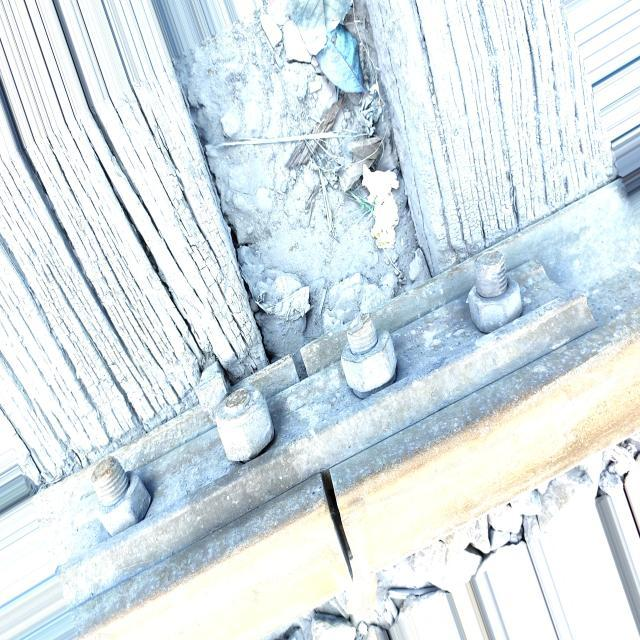Good Joint: (32, 246, 597, 610)
